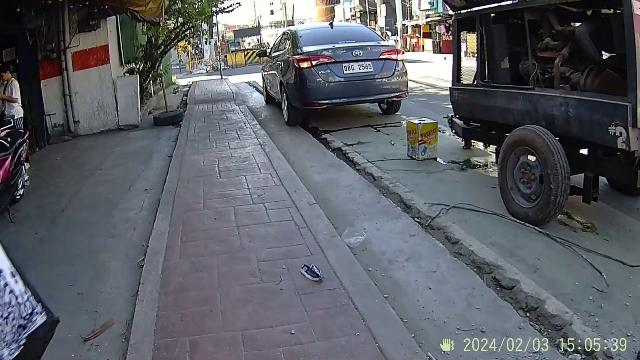car: (258, 15, 410, 129)
